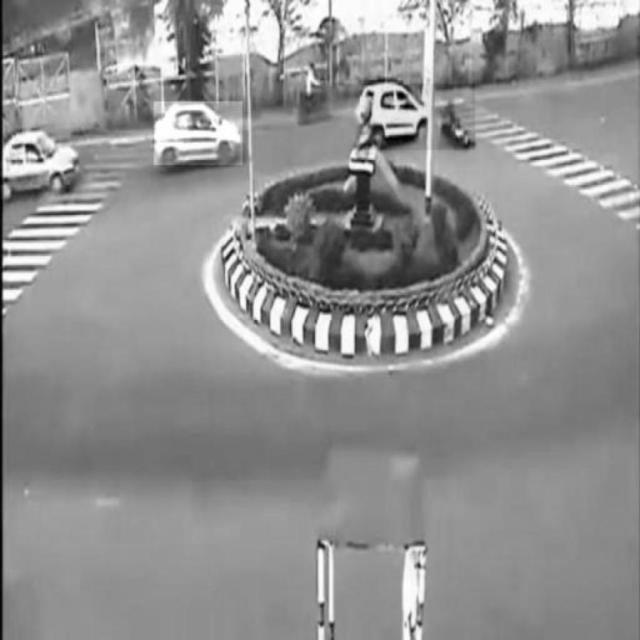accident: (362, 84, 475, 150)
vehicle: (155, 101, 243, 165), (5, 132, 77, 198), (293, 64, 331, 121)
